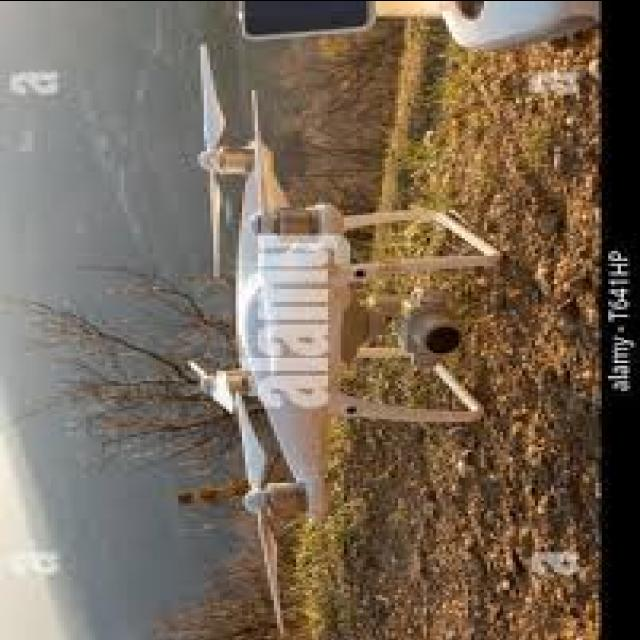drone: (163, 37, 500, 624)
